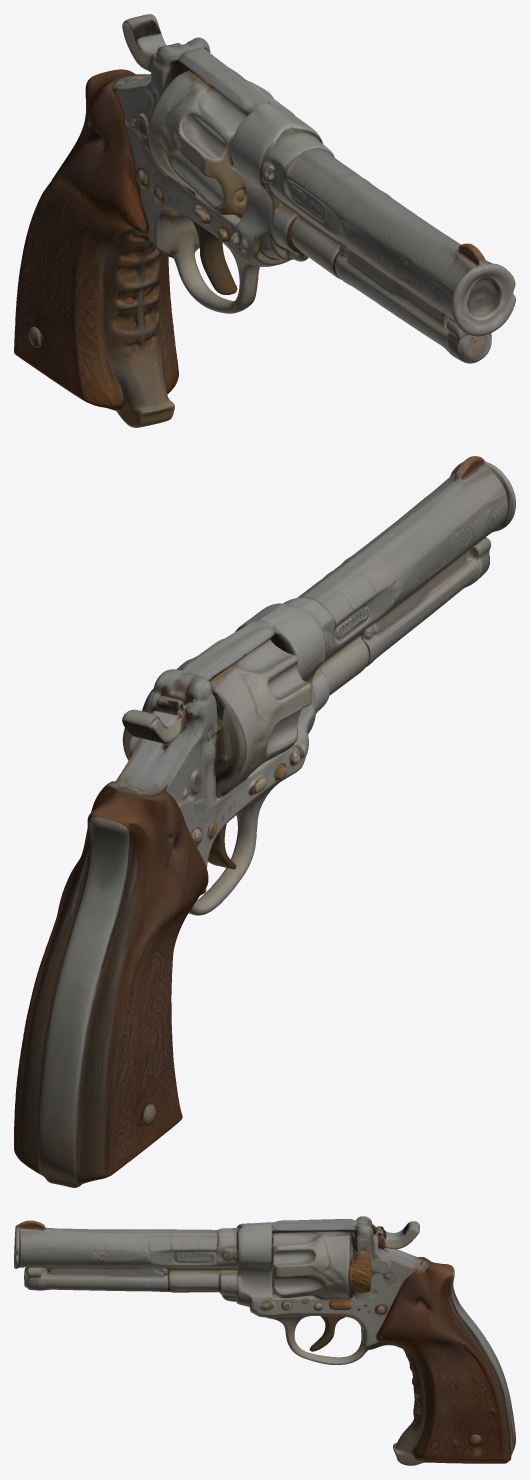
File: ماغنوم-2.glb
3 views of the same model, one above another, from view 1: azimuth 30°, elevation 25°; view 2: azimuth 150°, elevation 25°; view 3: azimuth 270°, elevation 25° (orthographic). The views are drawn at different scales.
Visible parts, largest first — view 1: tripo_node_73e2f69f-4539-421c-8b35-4d5a3f339c35; view 2: tripo_node_73e2f69f-4539-421c-8b35-4d5a3f339c35; view 3: tripo_node_73e2f69f-4539-421c-8b35-4d5a3f339c35.
Part boxes in pixels (box(x1,y1,x2,y2)): tripo_node_73e2f69f-4539-421c-8b35-4d5a3f339c35: box(14, 14, 515, 427); tripo_node_73e2f69f-4539-421c-8b35-4d5a3f339c35: box(14, 456, 515, 1187); tripo_node_73e2f69f-4539-421c-8b35-4d5a3f339c35: box(14, 1216, 515, 1465).
Size of the model in its own units: 0.1601 by 0.532 by 1.
1 material, 1 textured.
